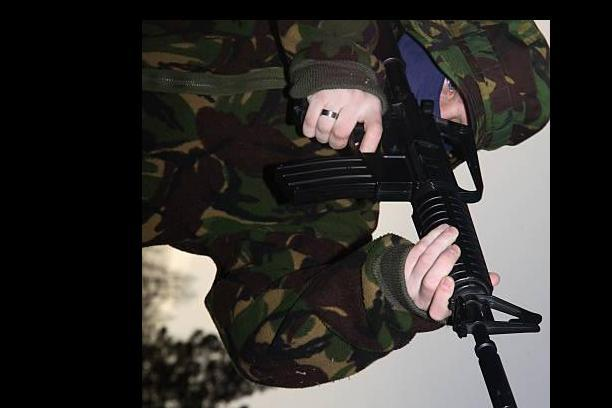larga: (267, 19, 543, 408)
